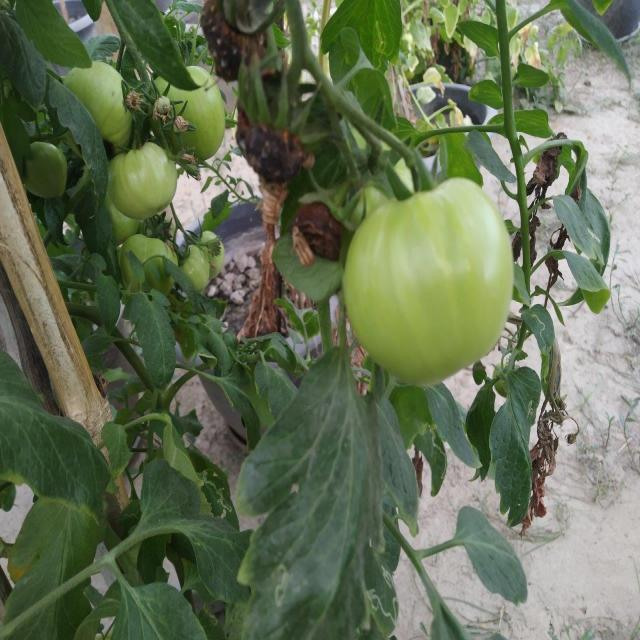Unripe: (342, 175, 513, 386), (110, 138, 180, 220)
